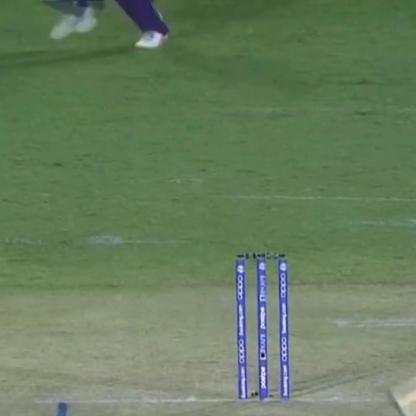bat: (378, 378, 416, 414)
